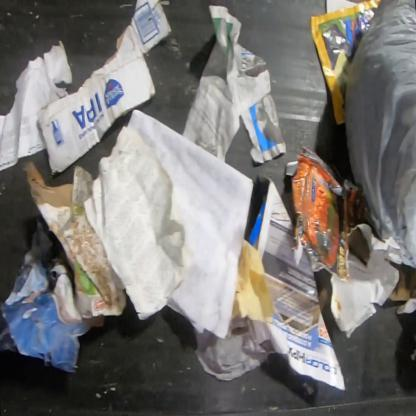cardboard: (36, 0, 174, 175), (24, 160, 128, 322), (386, 259, 415, 303)
soft_plastic: (344, 0, 415, 271), (286, 146, 366, 283)
